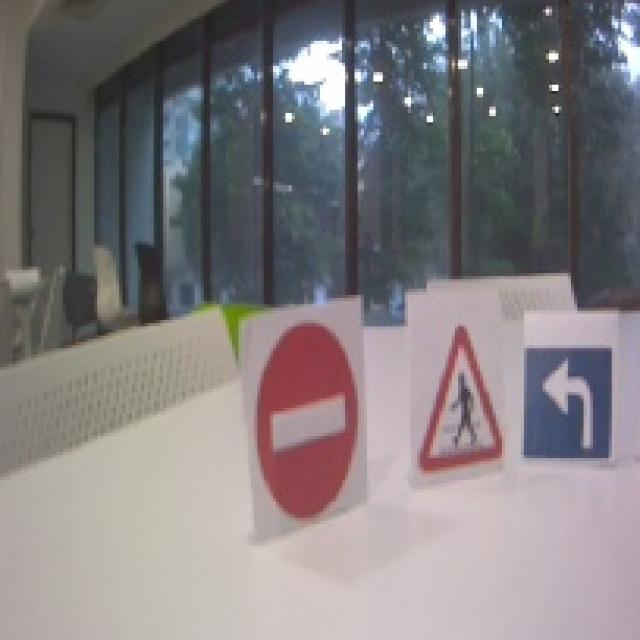DoNotEnterSign: (254, 322, 360, 522)
